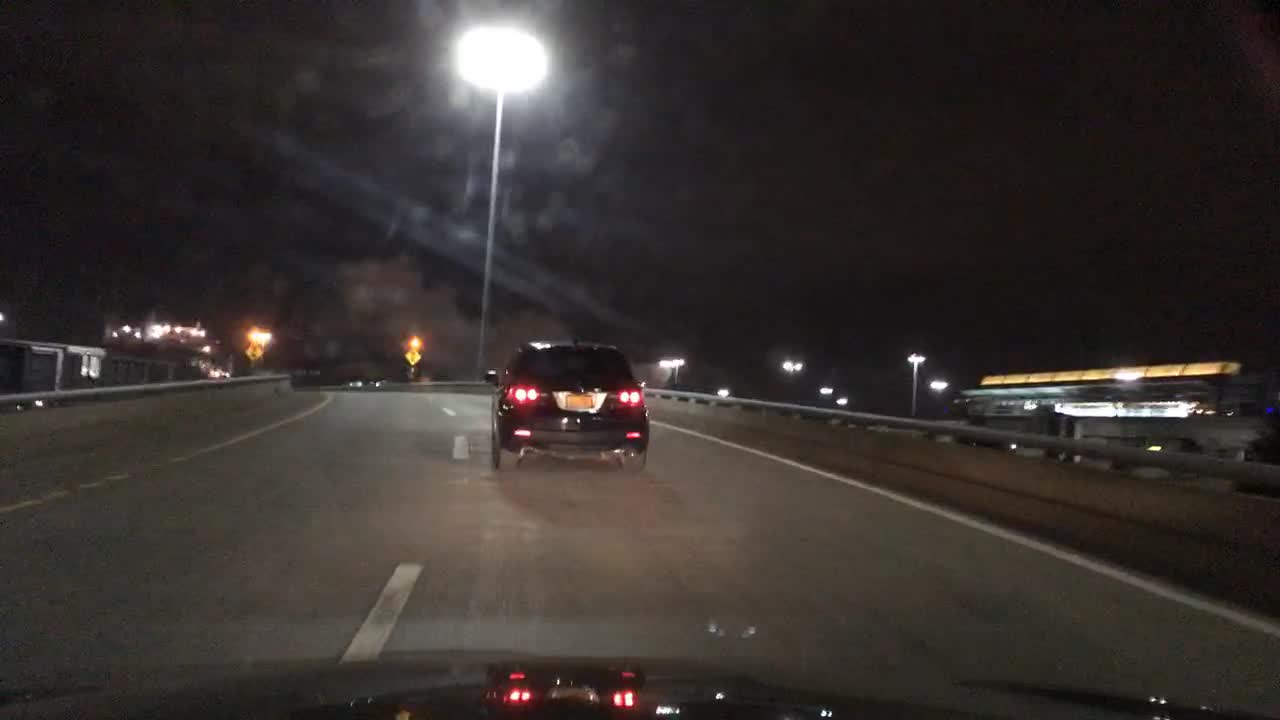car: (484, 337, 650, 466)
traffic light: (248, 325, 268, 342), (407, 333, 421, 350)
traffic sign: (243, 345, 265, 359), (404, 351, 420, 365)
